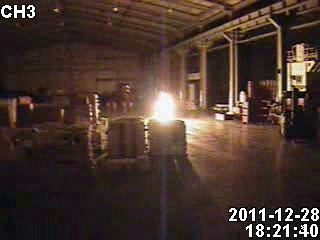fire: (148, 88, 180, 123)
